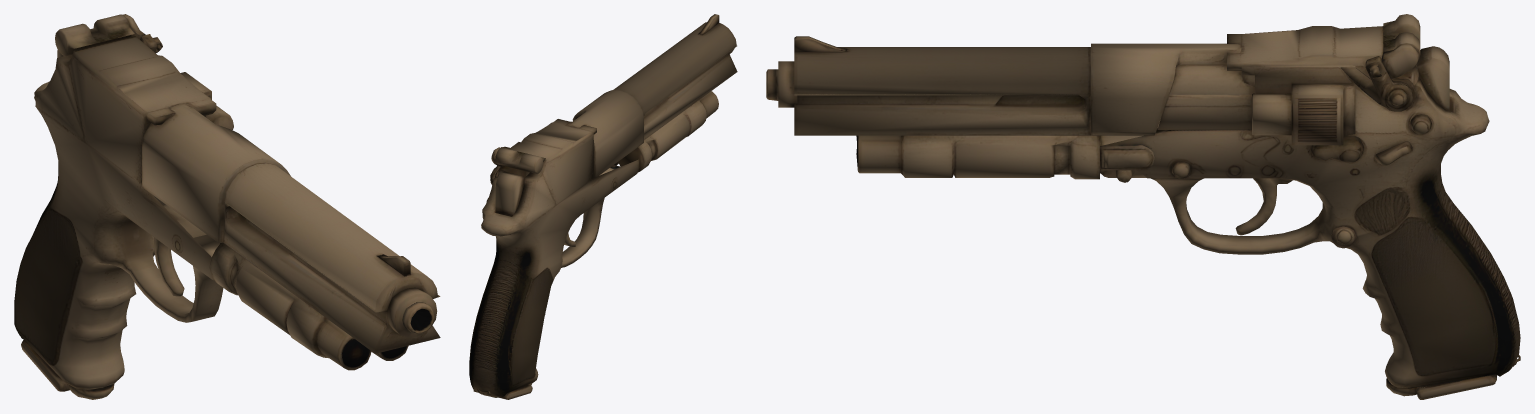
File: expedition_sidearm.glb
3 views of the same model, side by side, from view 1: azimuth 30°, elevation 25°; view 2: azimuth 150°, elevation 25°; view 3: azimuth 270°, elevation 25° (orthographic). The views are drawn at different scales.
Visible parts, largest first — view 1: tripo_node_16615d1b-b19d-4a34-9817-a2e0acd9a074; view 2: tripo_node_16615d1b-b19d-4a34-9817-a2e0acd9a074; view 3: tripo_node_16615d1b-b19d-4a34-9817-a2e0acd9a074.
Boxes of the visible parts, x1,y1,x2,y2 form: tripo_node_16615d1b-b19d-4a34-9817-a2e0acd9a074: [14, 14, 440, 399]; tripo_node_16615d1b-b19d-4a34-9817-a2e0acd9a074: [469, 14, 737, 399]; tripo_node_16615d1b-b19d-4a34-9817-a2e0acd9a074: [766, 14, 1520, 399].
Size of the model in its own units: 0.1543 by 0.5293 by 0.998.
Materials: 1 (1 with a texture image).
